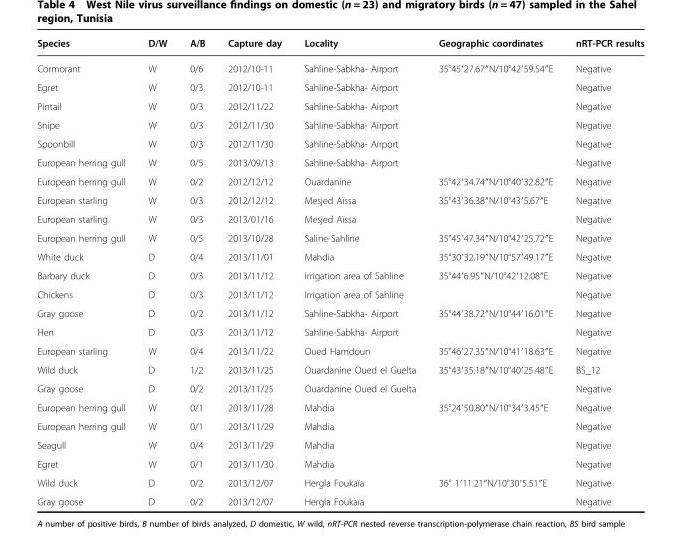table: (36, 36, 643, 506)
table column: (426, 36, 563, 506), (292, 36, 426, 506), (36, 36, 136, 506), (563, 36, 643, 506), (215, 36, 292, 506), (136, 36, 177, 506), (177, 36, 215, 506)
table column header: (36, 36, 643, 54)
table row: (36, 54, 643, 77), (36, 170, 643, 190), (36, 265, 643, 285), (36, 302, 643, 322), (36, 359, 643, 379), (36, 396, 643, 416), (36, 472, 643, 492), (36, 77, 643, 96), (36, 96, 643, 115), (36, 115, 643, 134), (36, 190, 643, 209), (36, 227, 643, 246), (36, 246, 643, 265), (36, 340, 643, 359), (36, 416, 643, 435), (36, 435, 643, 454), (36, 36, 643, 54), (36, 134, 643, 152), (36, 152, 643, 170), (36, 209, 643, 227), (36, 322, 643, 340), (36, 454, 643, 472), (36, 285, 643, 302), (36, 379, 643, 396), (36, 492, 643, 506)
